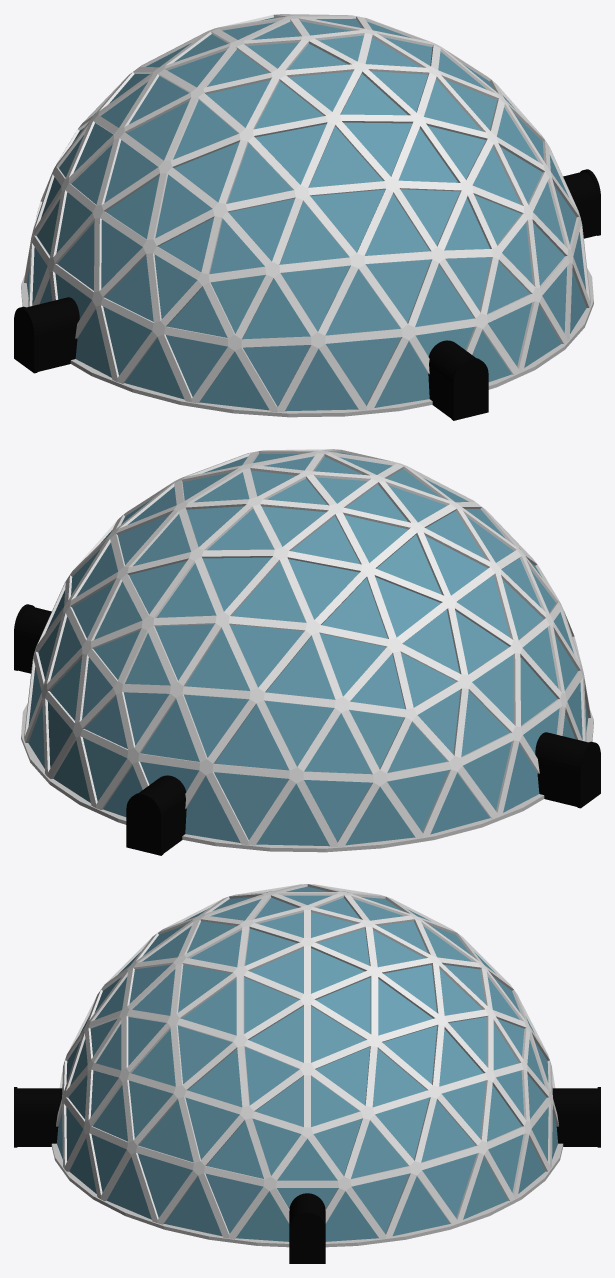
Rendered from greenhouse.fbx.
3 views of the same model, one above another, from view 1: azimuth 30°, elevation 25°; view 2: azimuth 150°, elevation 25°; view 3: azimuth 270°, elevation 25° (orthographic). The views are drawn at different scales.
Parts seen in each view (by area): view 1: Dome glass, Dome frame, Floor, connector.002, connector wall.001, connector, connector.003, connector wall; view 2: Dome glass, Dome frame, Floor, connector.002, connector wall.003, connector.001, connector.003, connector wall; view 3: Dome glass, Dome frame, Floor, connector, connector.001, connector wall.002, connector.003.
Part boxes in pixels (x1,y1,x2,y2): Dome glass: (26, 17, 586, 411); Dome frame: (24, 14, 590, 412); Floor: (21, 268, 593, 417); connector.002: (26, 297, 79, 371); connector wall.001: (451, 357, 488, 420); connector: (428, 340, 475, 418); connector.003: (563, 171, 597, 238); connector wall: (14, 306, 37, 373); Dome glass: (28, 452, 588, 846); Dome frame: (24, 449, 590, 847); Floor: (21, 703, 593, 852); connector.002: (535, 732, 588, 806); connector wall.003: (126, 792, 163, 855); connector.001: (139, 775, 186, 853); connector.003: (17, 606, 51, 673); connector wall: (577, 741, 600, 808); Dome glass: (57, 886, 557, 1241); Dome frame: (56, 884, 558, 1239); Floor: (51, 1143, 563, 1247); connector: (17, 1088, 62, 1146); connector.001: (552, 1088, 597, 1146); connector wall.002: (289, 1211, 325, 1263); connector.003: (289, 1193, 325, 1226).
Bounding box in the file's own units: 1619 × 706 × 1619.
